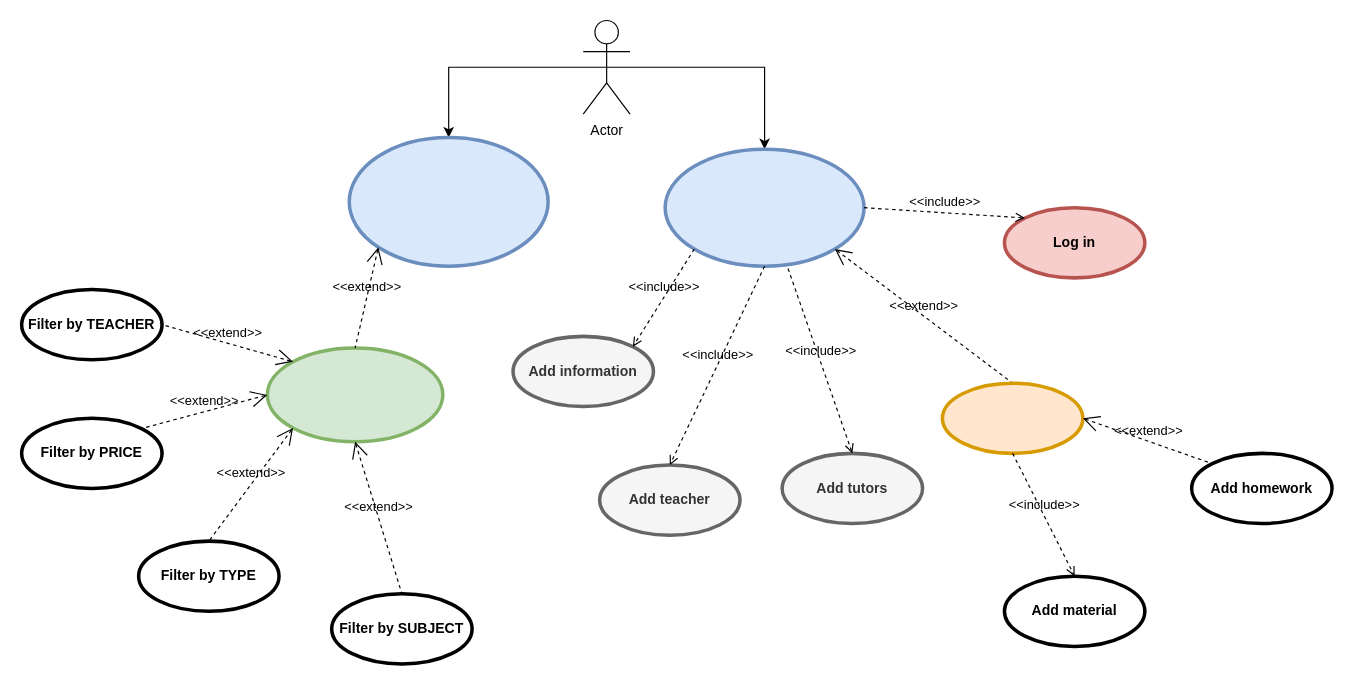
Some shapes in this 1354 by 686 pixel diagram are drawn without their labels. Each missing label, with the centre of its shape:
"Add course" goes at point 764,207.
"Add lesson" goes at point 1012,418.
"Check all courses" goes at point 448,201.
"Filter courses" goes at point 354,394.
